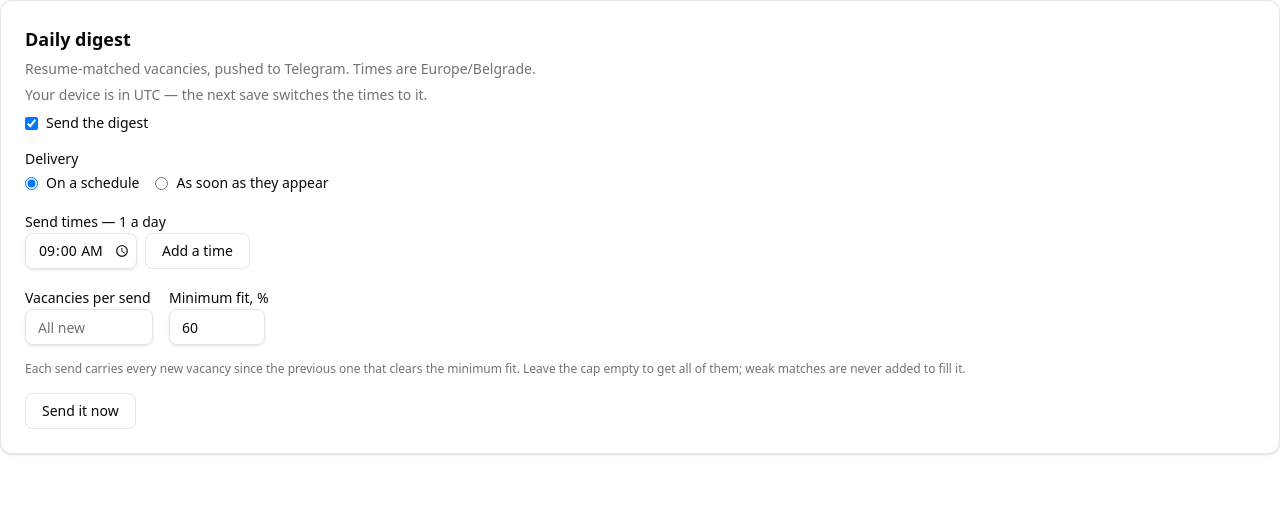
Test: DigestSettings › sends on demand and reports how many vacancies went out
Click the button "Send it now".
click(80, 411)  # box 25,393 -> 136,429
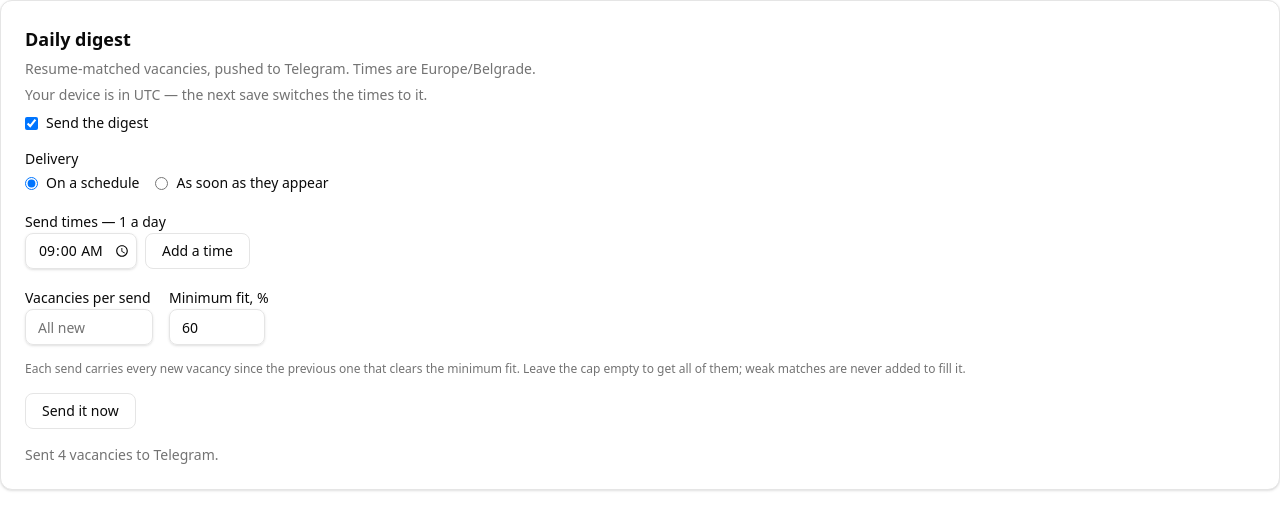
Check: the text "Sent 4 vacancies to Telegram." is shown, box 25,445 -> 218,464
